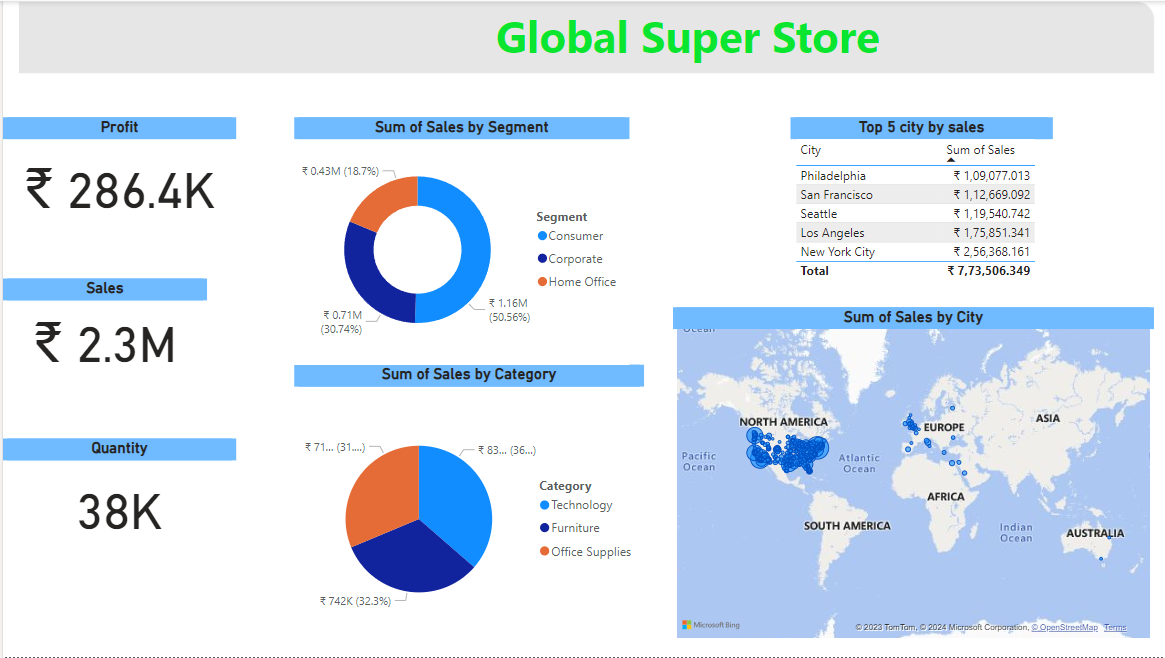

The dashboard page shown, as its layout file describes it:
{"tool":"powerbi","page":{"name":"Page 1","canvas":[1280,720],"ordinal":0},"visuals":[{"type":"card","title":"Sales","fields":{"Values":["Sum(SampleSuperstore - SampleSuperstore.Sales)"]},"box":[0,304,224,112],"z":0},{"type":"card","title":"Profit","fields":{"Values":["Sum(SampleSuperstore - SampleSuperstore.Profit)"]},"box":[0,128,256,128],"z":1000},{"type":"card","title":"Quantity","fields":{"Values":["Sum(SampleSuperstore - SampleSuperstore.Quantity)"]},"box":[0,480,256,128],"z":2000},{"type":"pieChart","fields":{"Category":["SampleSuperstore - SampleSuperstore.Category"],"Y":["Sum(SampleSuperstore - SampleSuperstore.Sales)"]},"box":[320,400,384,320],"z":3000},{"type":"donutChart","fields":{"Category":["SampleSuperstore - SampleSuperstore.Segment"],"Y":["Sum(SampleSuperstore - SampleSuperstore.Sales)"]},"box":[320,128,368,272],"z":4000},{"type":"tableEx","title":"Top 5 city by sales","fields":{"Values":["SampleSuperstore - SampleSuperstore.City","Sum(SampleSuperstore - SampleSuperstore.Sales)"]},"box":[864,128,288,208],"z":5000},{"type":"map","fields":{"Size":["Sum(SampleSuperstore - SampleSuperstore.Sales)"],"Category":["SampleSuperstore - SampleSuperstore.City"]},"box":[736,336,528,368],"z":6000},{"type":"shape","box":[16,0,1248,80],"z":6001},{"type":"textbox","box":[224,0,1056,80],"z":6002}]}

Visuals, with their boxes in screenshot pixels (x1, y1, x2, y2), scaled from the page's 1280x720 canvas onto the 1165x658 screenshot:
"Sales" card: bbox=[0, 278, 204, 380]
"Profit" card: bbox=[0, 117, 233, 234]
"Quantity" card: bbox=[0, 439, 233, 556]
pieChart - SampleSuperstore - SampleSuperstore.Category x Sum(SampleSuperstore - SampleSuperstore.Sales): bbox=[291, 366, 641, 657]
donutChart - SampleSuperstore - SampleSuperstore.Segment x Sum(SampleSuperstore - SampleSuperstore.Sales): bbox=[291, 117, 626, 366]
"Top 5 city by sales" tableEx: bbox=[786, 117, 1048, 307]
map - Sum(SampleSuperstore - SampleSuperstore.Sales) x SampleSuperstore - SampleSuperstore.City: bbox=[670, 307, 1150, 643]
shape: bbox=[15, 0, 1150, 73]
textbox: bbox=[204, 0, 1164, 73]
